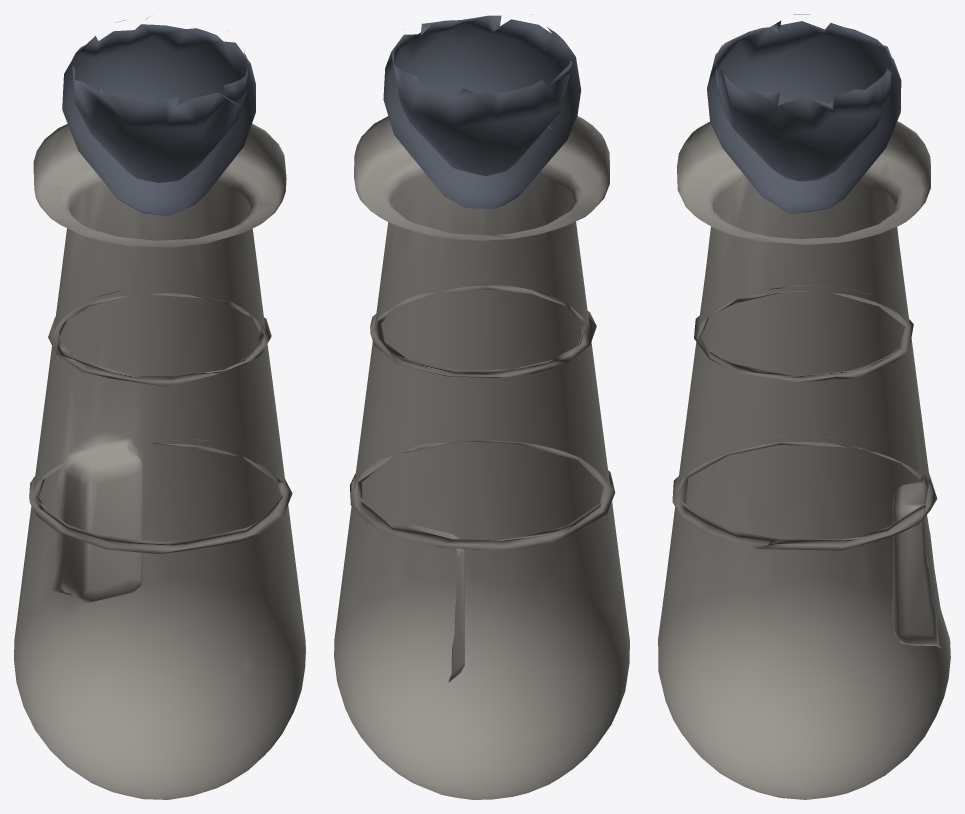
Rendered from obj_beacon.glb.
The picture shows the model from 3 angles, left to right: view 1: azimuth 30°, elevation 25°; view 2: azimuth 150°, elevation 25°; view 3: azimuth 270°, elevation 25°; orthographic projection.
Parts seen in each view (by area): view 1: body; view 2: body; view 3: body.
Part boxes in pixels (box(x1,y1,x2,y2)): body: box(14, 17, 305, 799); body: box(334, 14, 629, 799); body: box(658, 14, 950, 799).
Size of the model in its own units: 2.99 by 8.34 by 2.99.
Materials: 1 (1 with a texture image).
